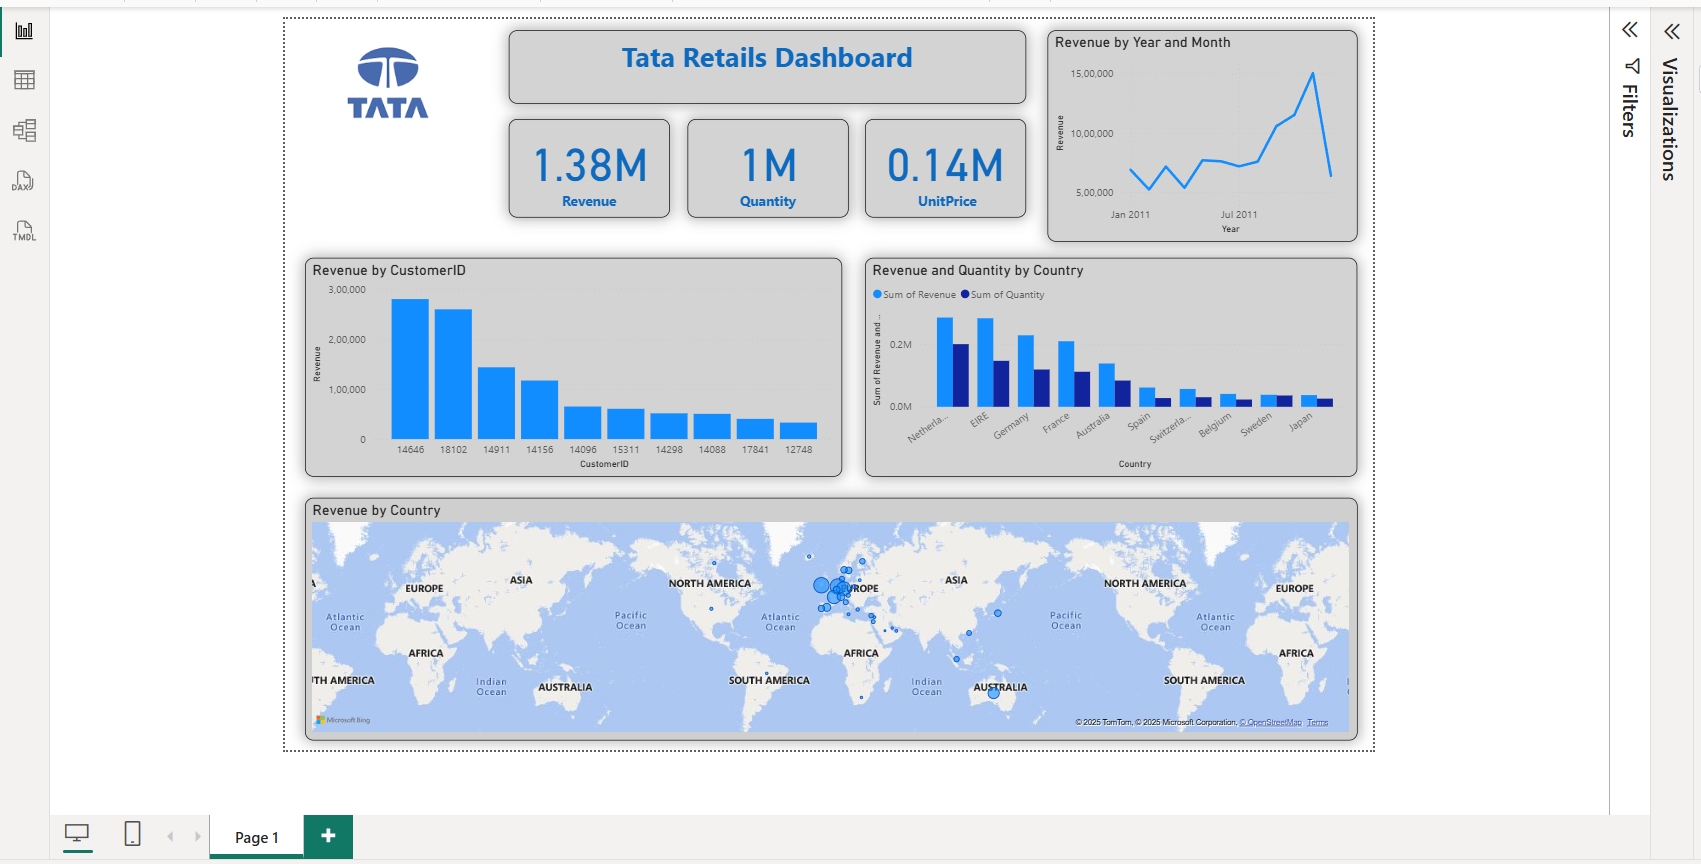

The dashboard page shown, as its layout file describes it:
{"tool":"powerbi","page":{"name":"Page 1","canvas":[1280,860],"ordinal":0},"visuals":[{"type":"lineChart","title":"Revenue by Year and Month","fields":{"Y":["Sum(Online Retail (2).Revenue)"],"Category":["Online Retail (2).InvoiceDate.Variation.Date Hierarchy.Year","Online Retail (2).InvoiceDate.Variation.Date Hierarchy.Month"]},"box":[897.1,13.2,364.7,248.5],"z":0},{"type":"card","title":" Revenue and Sum of Quantity by Country","fields":{"Values":["Sum(Online Retail (2).Revenue)"]},"box":[263.2,117.6,189.7,116.2],"z":1000},{"type":"lineClusteredColumnComboChart","title":"Revenue by CustomerID","fields":{"Category":["Online Retail (2).CustomerID"],"Y":["Sum(Online Retail (2).Revenue)"]},"box":[23.5,280.9,632.4,257.4],"z":2000},{"type":"map","title":"Revenue by Country","fields":{"Category":["Online Retail (2).Country"],"Size":["Sum(Online Retail (2).Revenue)"]},"box":[23.5,563.2,1238.2,285.3],"z":3000},{"type":"image","box":[0,0,242.9,149.6],"z":4000},{"type":"textbox","box":[263.2,13.2,608.8,86.8],"z":5000},{"type":"card","title":" Revenue and Sum of Quantity by Country","fields":{"Values":["Sum(Online Retail (2).Quantity)"]},"box":[473.5,117.6,189.7,116.2],"z":6000},{"type":"card","title":" Revenue and Sum of Quantity by Country","fields":{"Values":["Sum(Online Retail (2).UnitPrice)"]},"box":[682.4,117.6,189.7,116.2],"z":7000},{"type":"clusteredColumnChart","title":"Revenue and  Quantity by Country","fields":{"Category":["Online Retail (2).Country"],"Y":["Sum(Online Retail (2).Revenue)","Sum(Online Retail (2).Quantity)"]},"box":[682.4,280.9,579.4,257.4],"z":8000}]}

Visuals, with their boxes on the page's 1280x860 design canvas (x1, y1, x2, y2). These are canvas units, not pixel positions in the 1701x864 screenshot, which may show the page scaled, cropped or inside an application window:
"Revenue by Year and Month" lineChart: 897 13 1262 262
" Revenue and Sum of Quantity by Country" card: 263 118 453 234
"Revenue by CustomerID" lineClusteredColumnComboChart: 24 281 656 538
"Revenue by Country" map: 24 563 1262 848
image: 0 0 243 150
textbox: 263 13 872 100
" Revenue and Sum of Quantity by Country" card: 474 118 663 234
" Revenue and Sum of Quantity by Country" card: 682 118 872 234
"Revenue and  Quantity by Country" clusteredColumnChart: 682 281 1262 538
